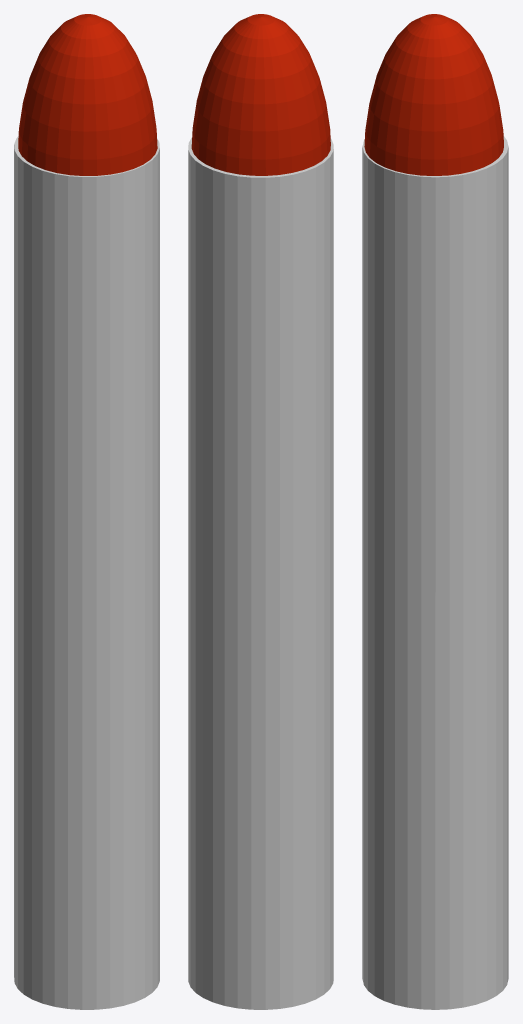
3 renders of one model, left to right at view 1: azimuth 30°, elevation 25°; view 2: azimuth 150°, elevation 25°; view 3: azimuth 270°, elevation 25°, orthographic.
Visible parts, largest first — view 1: Cylinder.002, Sphere.004; view 2: Cylinder.002, Sphere.004; view 3: Cylinder.002, Sphere.004.
Part boxes in pixels (<box>): Cylinder.002: <box>14,136,159,1009</box>; Sphere.004: <box>18,14,157,175</box>; Cylinder.002: <box>188,137,333,1009</box>; Sphere.004: <box>191,14,330,175</box>; Cylinder.002: <box>362,136,508,1009</box>; Sphere.004: <box>364,14,503,175</box>.
Size of the model in its own units: 662 by 4810 by 662.
